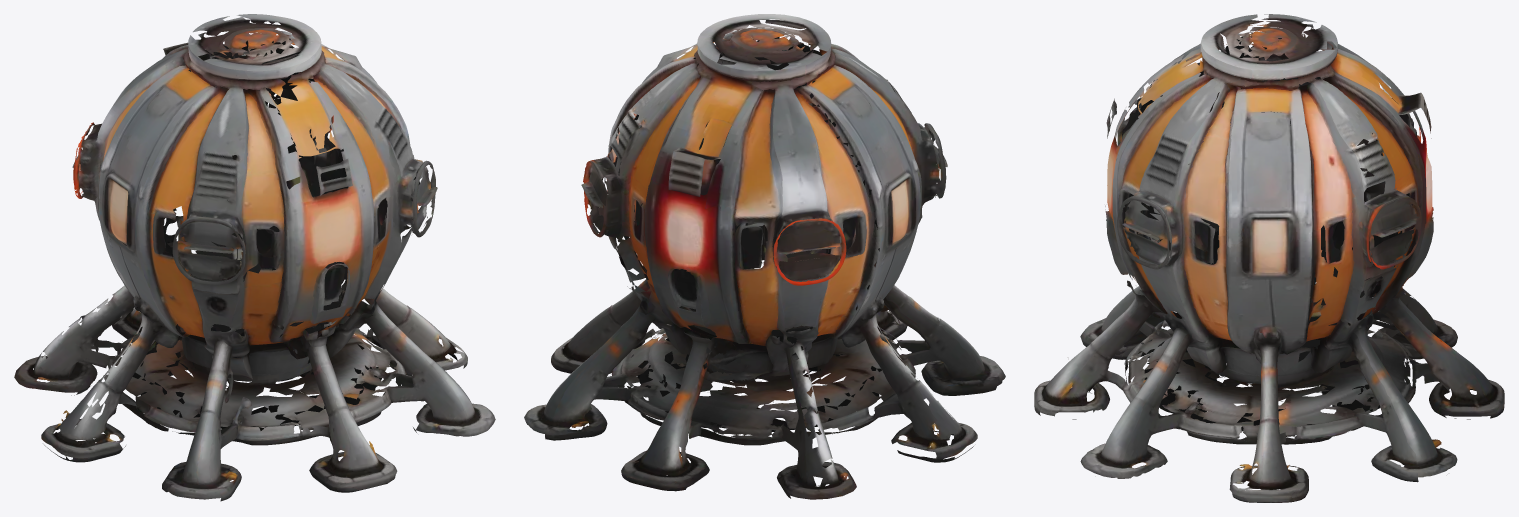
The model's file is prop_beacon.glb.
3 renders of one model, left to right at view 1: azimuth 30°, elevation 25°; view 2: azimuth 150°, elevation 25°; view 3: azimuth 270°, elevation 25°, orthographic.
Parts seen in each view (by area): view 1: geometry_0.1407; view 2: geometry_0.1407; view 3: geometry_0.1407.
Part boxes in pixels (x1,y1,x2,y2): geometry_0.1407: (14,14,495,501); geometry_0.1407: (524,14,1005,499); geometry_0.1407: (1034,14,1504,502).
Size of the model in its own units: 0.9998 by 0.8622 by 1.
Materials: 1 (1 with a texture image).
